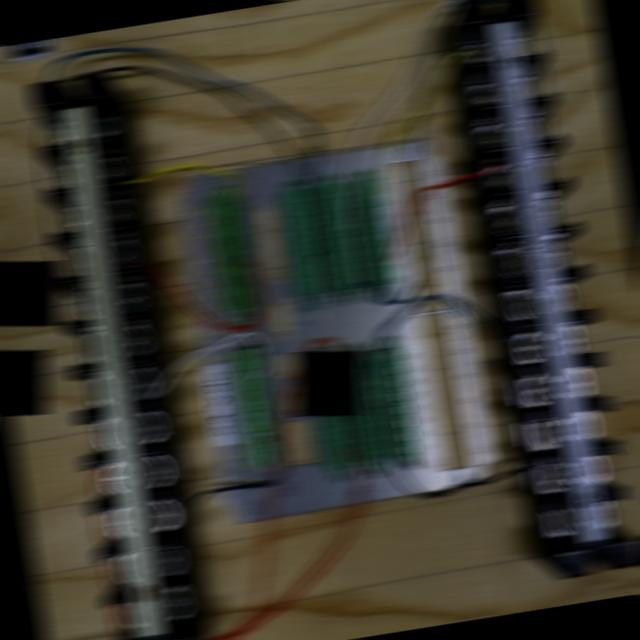Flathead_Block: (29, 73, 192, 640)
Phillips_Block: (459, 0, 640, 577)
Terminal_1: (230, 346, 281, 469), (208, 190, 255, 311)
Terminal_2: (343, 354, 391, 470), (310, 359, 357, 474), (351, 173, 398, 287), (281, 182, 327, 297), (316, 178, 362, 291)
